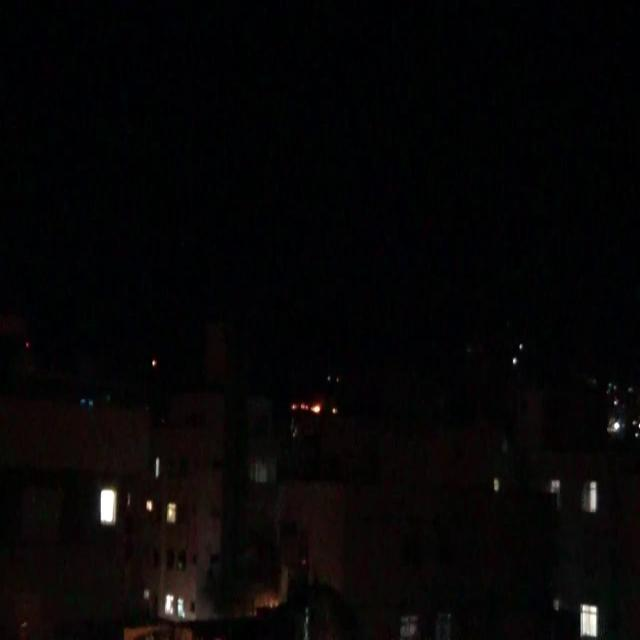Fire: (291, 401, 322, 414)
